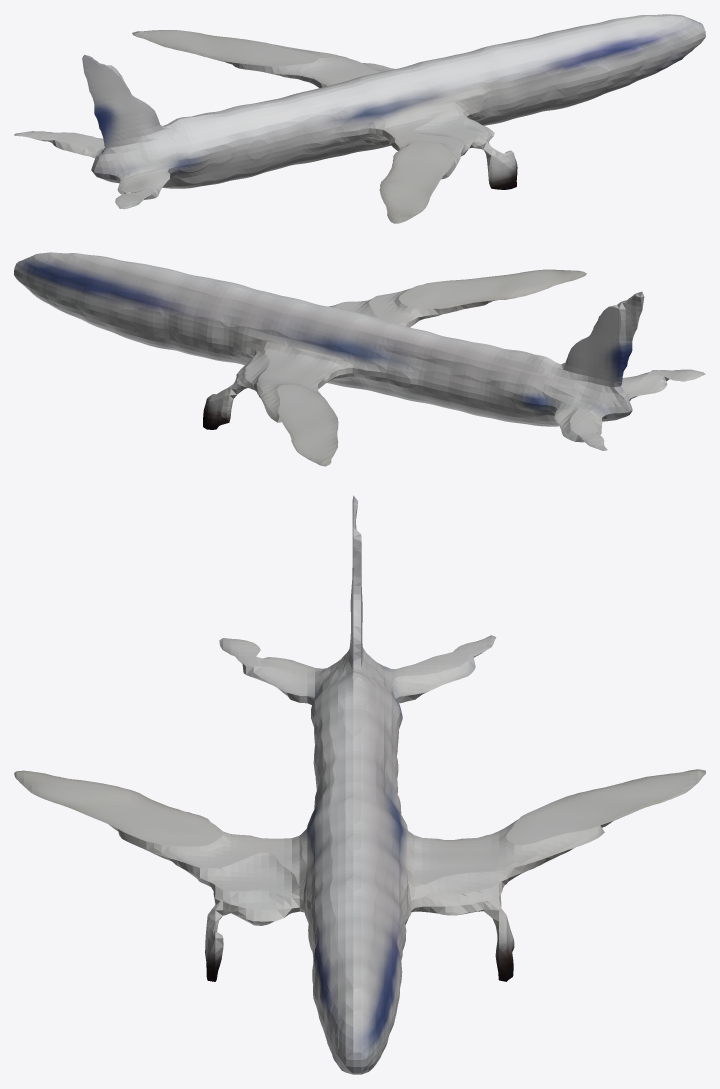
3 renders of one model, top to bottom at view 1: azimuth 30°, elevation 25°; view 2: azimuth 150°, elevation 25°; view 3: azimuth 270°, elevation 25°, orthographic. The views are drawn at different scales.
Parts seen in each view (by area): view 1: tmphn45t0kf.ply; view 2: tmphn45t0kf.ply; view 3: tmphn45t0kf.ply.
Part boxes in pixels (x1,y1,x2,y2): tmphn45t0kf.ply: (14,14,705,223); tmphn45t0kf.ply: (14,252,705,466); tmphn45t0kf.ply: (14,495,705,1074).
Bounding box in the file's own units: 1.97 × 0.5458 × 1.4.
